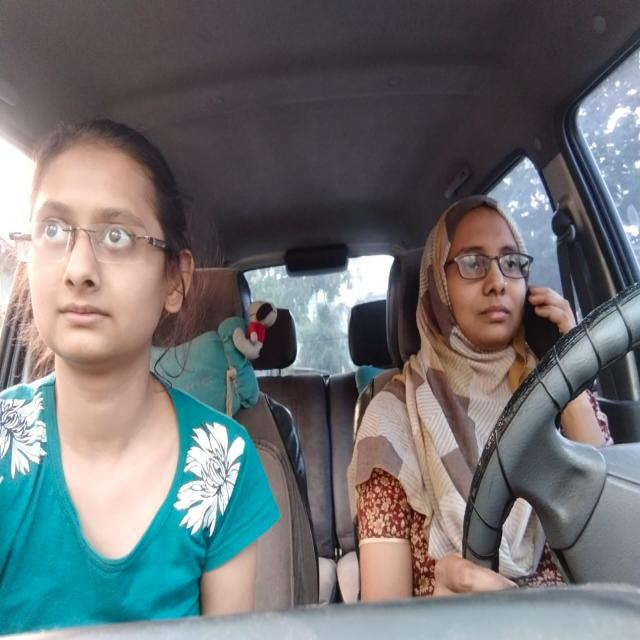mobile: (521, 285, 574, 392)
person: (24, 117, 192, 395), (410, 190, 565, 402)
